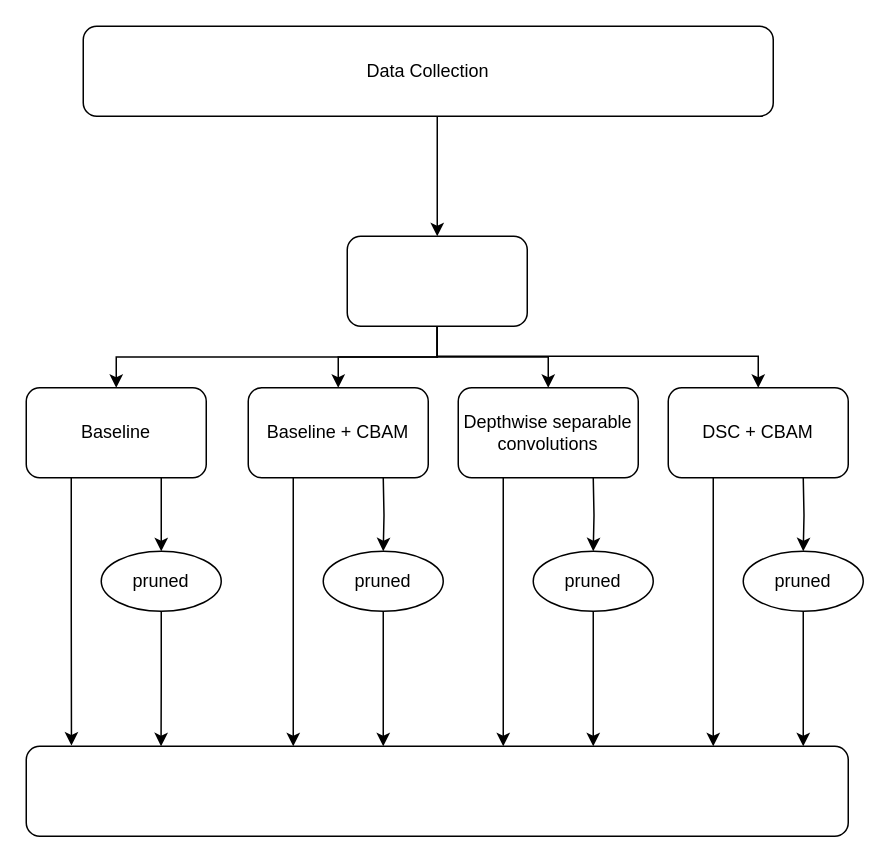
The diagram is 890 pixels wide and 863 high, and some of its shapes have lost their labels. Here are the shapes that lost their labels. From the top down, the centre of each, then its label:
point (436, 280): Data Annotation
point (436, 790): Model Testing and Evaluation
